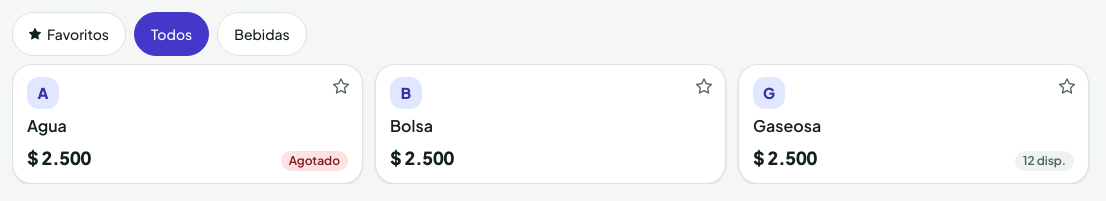
Test case: ProductGridComponent › sin favoritos en la pestaña Favoritos explica cómo agregarlos
The width and height of the screenshot is (1106, 201).
Click the button "Favoritos": (69, 34) [12,12,126,56]
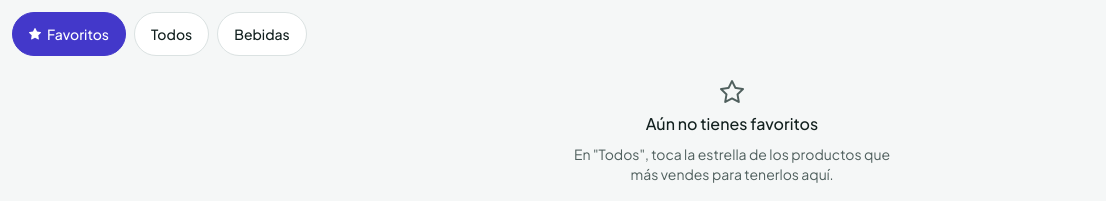
Result: the text "Aún no tienes favoritos" is shown at [646,112,818,136]
